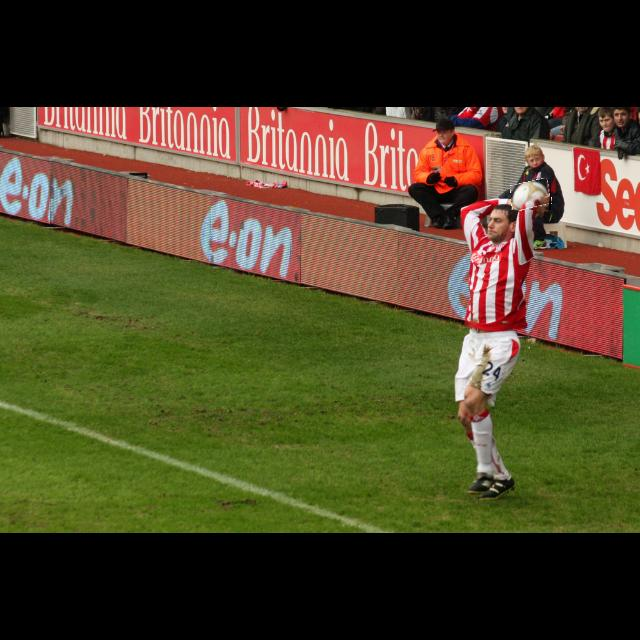Football: (511, 180, 551, 210)
